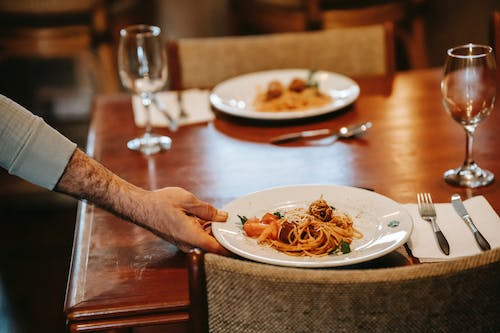knife: (449, 192, 493, 251), (152, 96, 178, 133)
